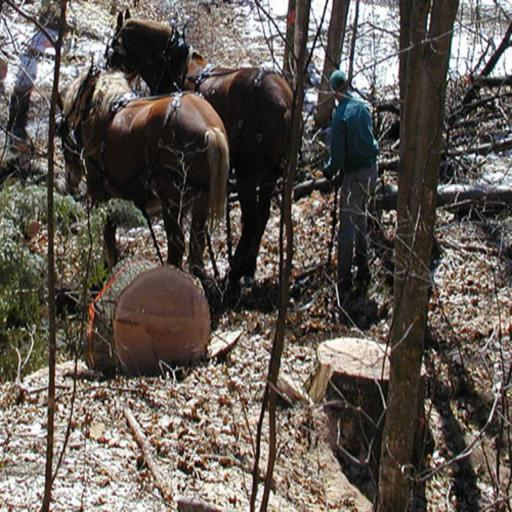horse: (106, 2, 304, 282), (56, 72, 232, 274)
